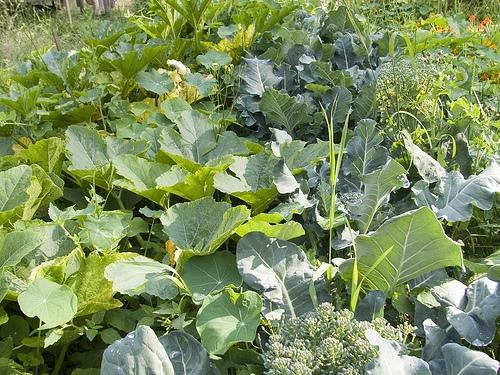broccoli: (316, 337, 349, 371), (301, 317, 321, 346), (338, 192, 364, 209), (304, 339, 310, 349)
